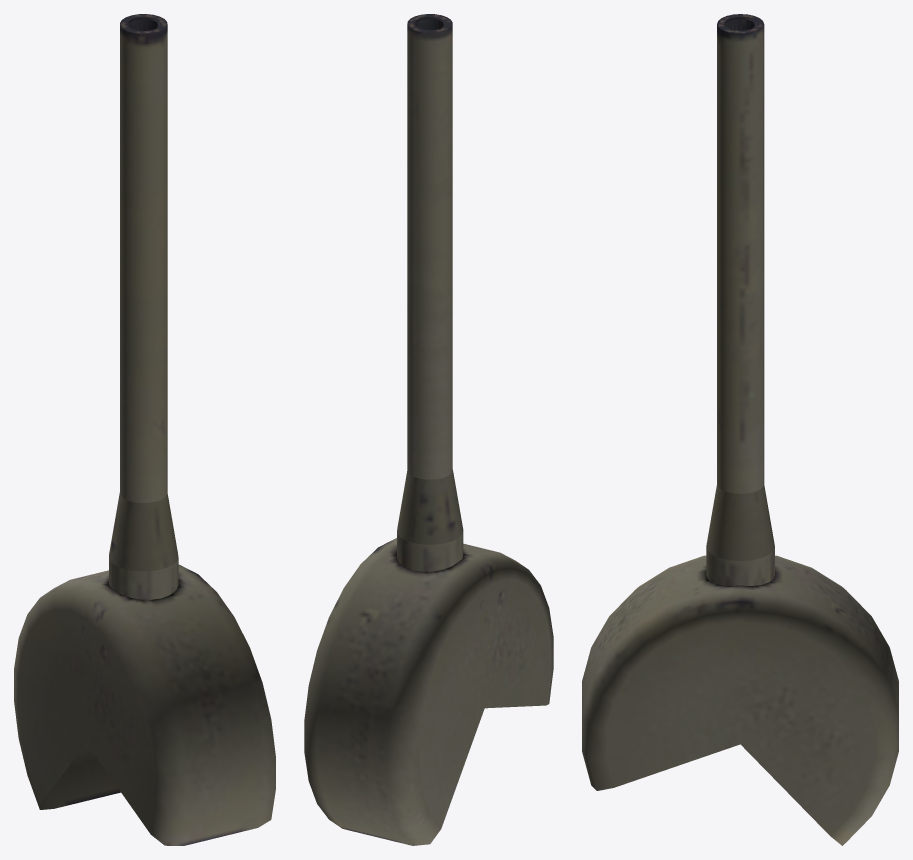
File: Gun_07.glb
3 renders of one model, left to right at view 1: azimuth 30°, elevation 25°; view 2: azimuth 150°, elevation 25°; view 3: azimuth 270°, elevation 25°, orthographic. The views are drawn at different scales.
Visible parts, largest first — view 1: set_0_group_0; view 2: set_0_group_0; view 3: set_0_group_0.
Part boxes in pixels (box(x1,y1,x2,y2)): set_0_group_0: box(14, 14, 275, 845); set_0_group_0: box(304, 14, 553, 845); set_0_group_0: box(582, 14, 898, 845).
Bounding box in the file's own units: 0.272 × 1.81 × 0.6497.
Materials: 1 (1 with a texture image).
